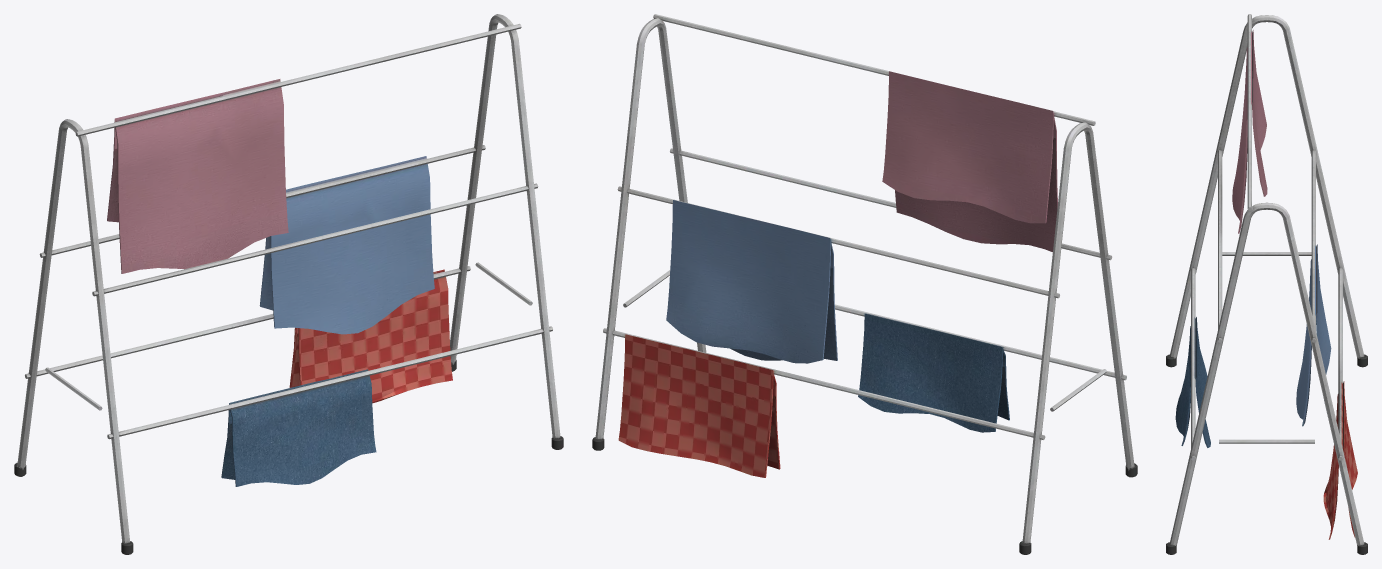
Rendered from laundry_rack.glb.
3 views of the same model, side by side, from view 1: azimuth 30°, elevation 25°; view 2: azimuth 150°, elevation 25°; view 3: azimuth 270°, elevation 25° (orthographic). The views are drawn at different scales.
Parts seen in each view (by area): view 1: laundry_rack; view 2: laundry_rack; view 3: laundry_rack.
Boxes of the visible parts, <box> form: laundry_rack: <box>14,14,563,554</box>; laundry_rack: <box>592,14,1137,554</box>; laundry_rack: <box>1166,14,1367,554</box>.
Size of the model in its own units: 1.34 by 1.14 by 0.5904.
Materials: 1 (1 with a texture image).
